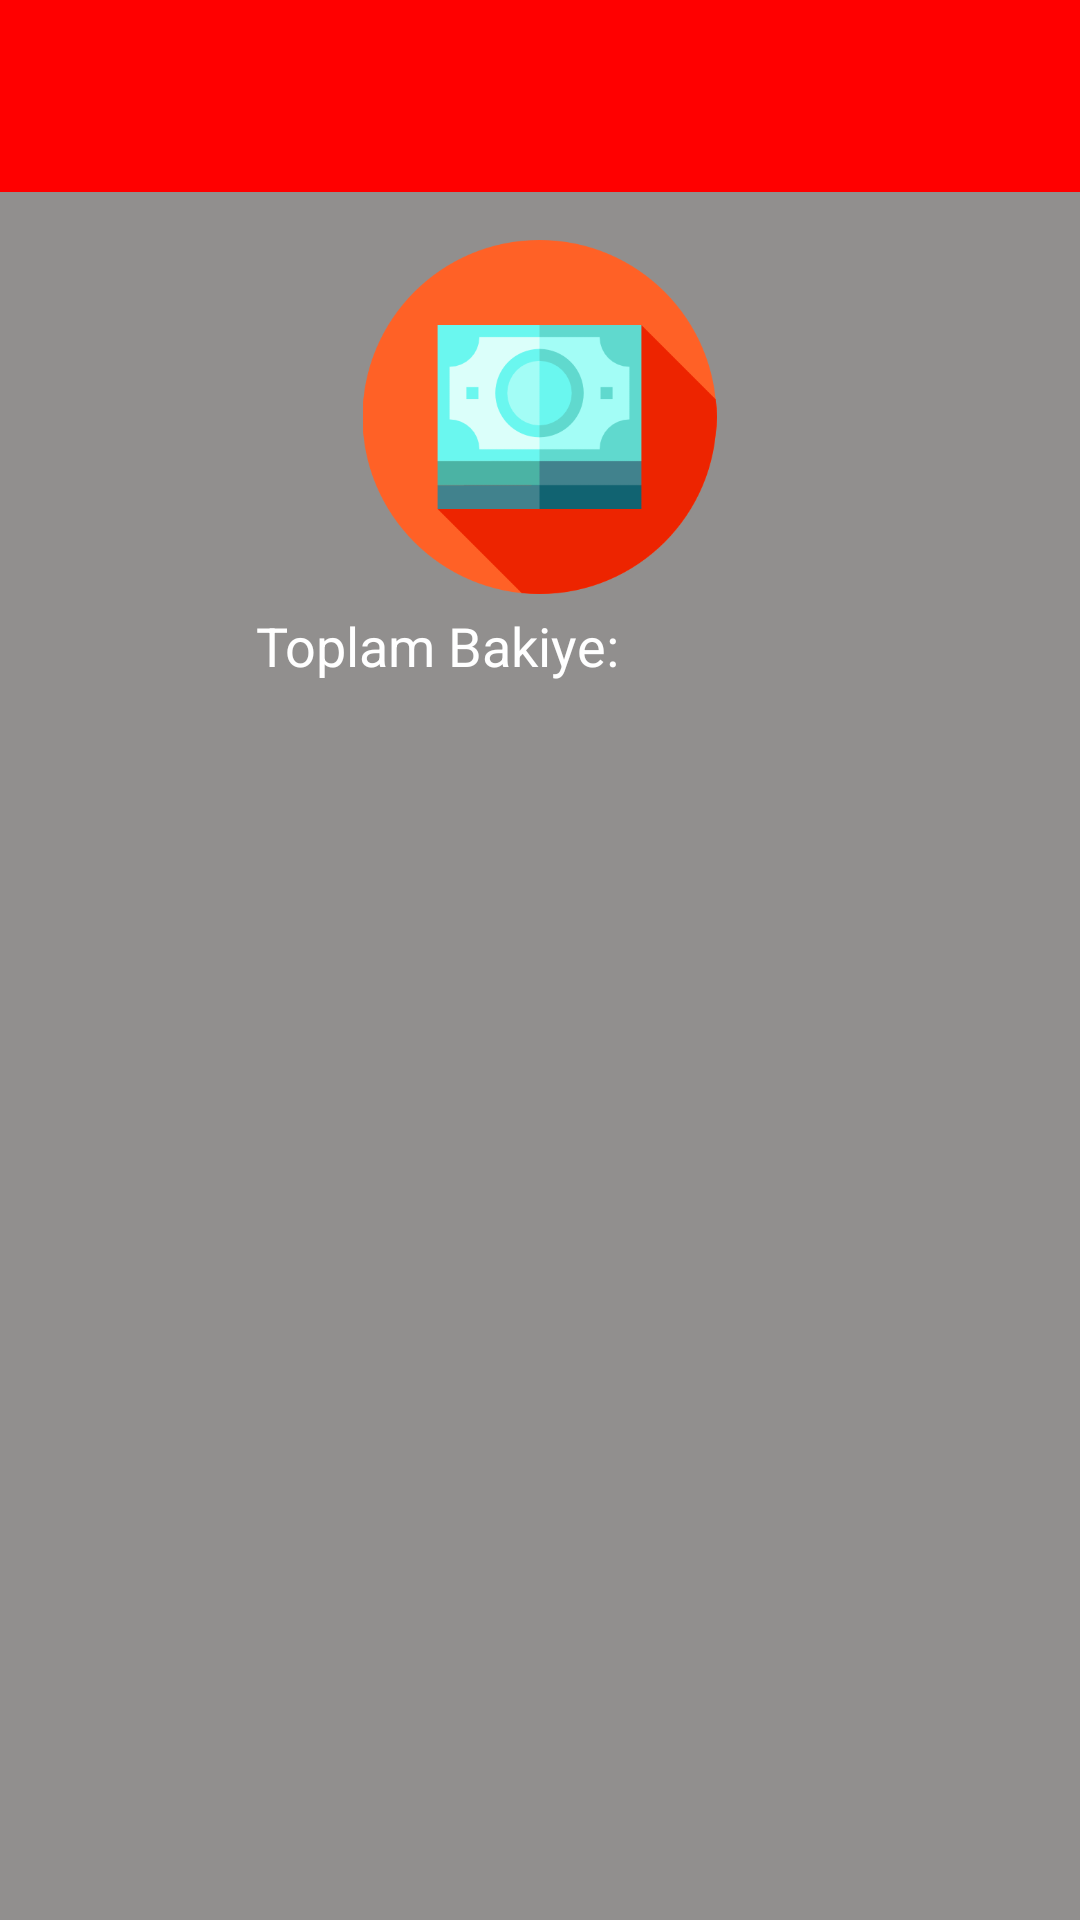

Locate icon controls on the screen. Image size 1080 × 1920, boxes as BBox(x1, y1, x2, y2).
account inf: BBox(363, 240, 717, 594)
